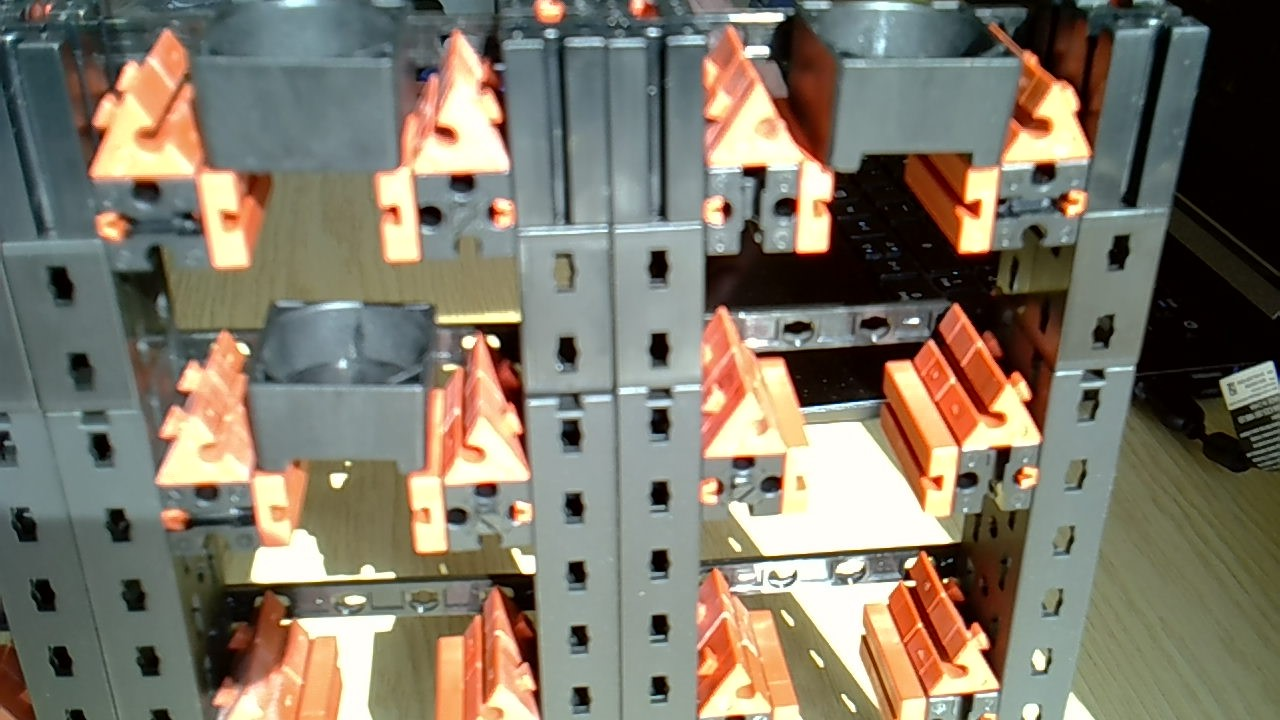Behaelter: (787, 1, 1019, 163), (193, 1, 410, 169), (253, 301, 431, 466)
